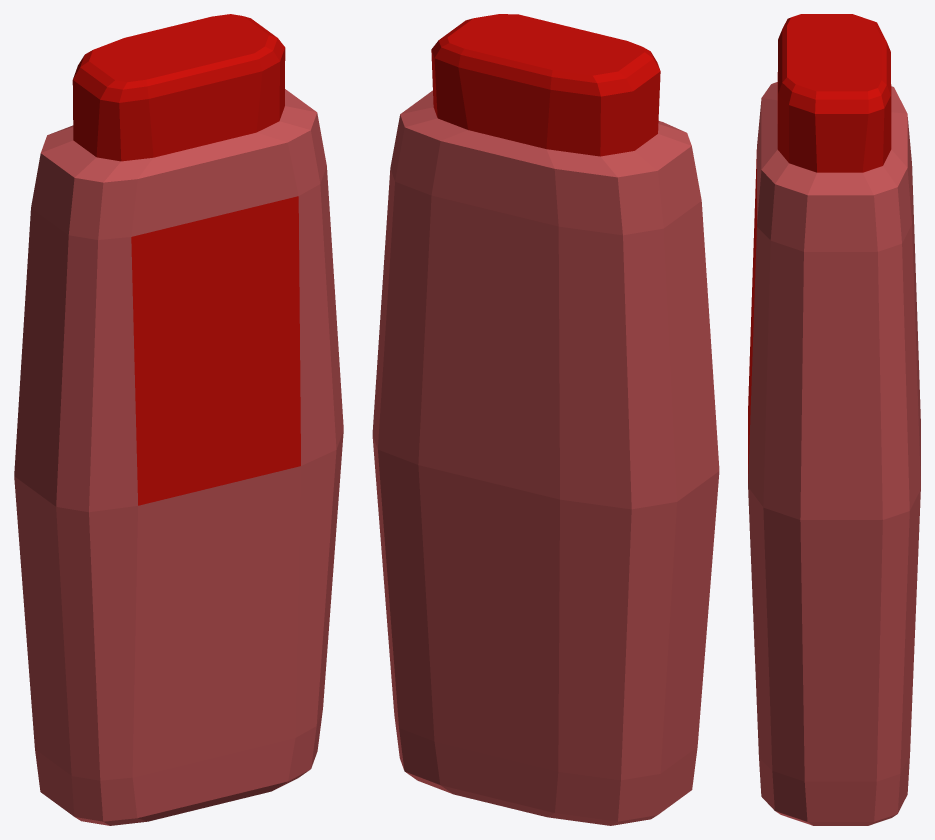
Rendered from Ma_Shampoo_1.fbx.
3 views of the same model, side by side, from view 1: azimuth 30°, elevation 25°; view 2: azimuth 150°, elevation 25°; view 3: azimuth 270°, elevation 25° (orthographic). The views are drawn at different scales.
Visible parts, largest first — view 1: Ma_Shampoo_1; view 2: Ma_Shampoo_1; view 3: Ma_Shampoo_1.
Boxes of the visible parts, left/top/right/bottom form: Ma_Shampoo_1: left=14, top=14, right=343, bottom=825; Ma_Shampoo_1: left=372, top=14, right=719, bottom=825; Ma_Shampoo_1: left=748, top=14, right=920, bottom=825.
Bounding box in the file's own units: 86.61 × 44.83 × 206.
